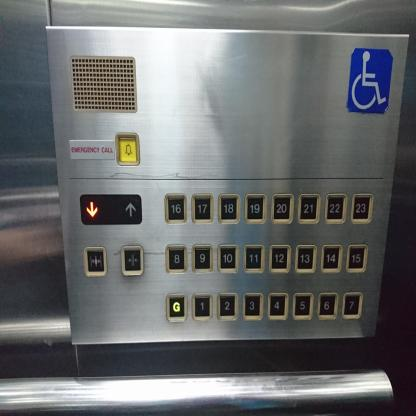1: (192, 292, 214, 320)
10: (216, 243, 239, 274)
11: (242, 244, 264, 274)
12: (268, 244, 291, 273)
13: (294, 244, 316, 273)
14: (320, 244, 342, 272)
15: (346, 244, 368, 272)
16: (164, 194, 187, 223)
17: (191, 193, 214, 224)
18: (218, 193, 240, 224)
19: (244, 192, 266, 224)
2: (216, 292, 238, 321)
20: (271, 193, 294, 224)
21: (297, 193, 321, 224)
22: (324, 192, 347, 223)
23: (350, 192, 374, 224)
3: (242, 292, 264, 320)
4: (266, 292, 288, 320)
5: (292, 292, 314, 320)
6: (316, 291, 339, 320)
7: (341, 291, 364, 319)
8: (165, 244, 188, 275)
9: (191, 244, 213, 274)
CH: (347, 48, 394, 116)
G: (165, 292, 188, 322)
alarm: (114, 132, 140, 166)
close: (121, 246, 144, 276)
open: (84, 247, 106, 277)
